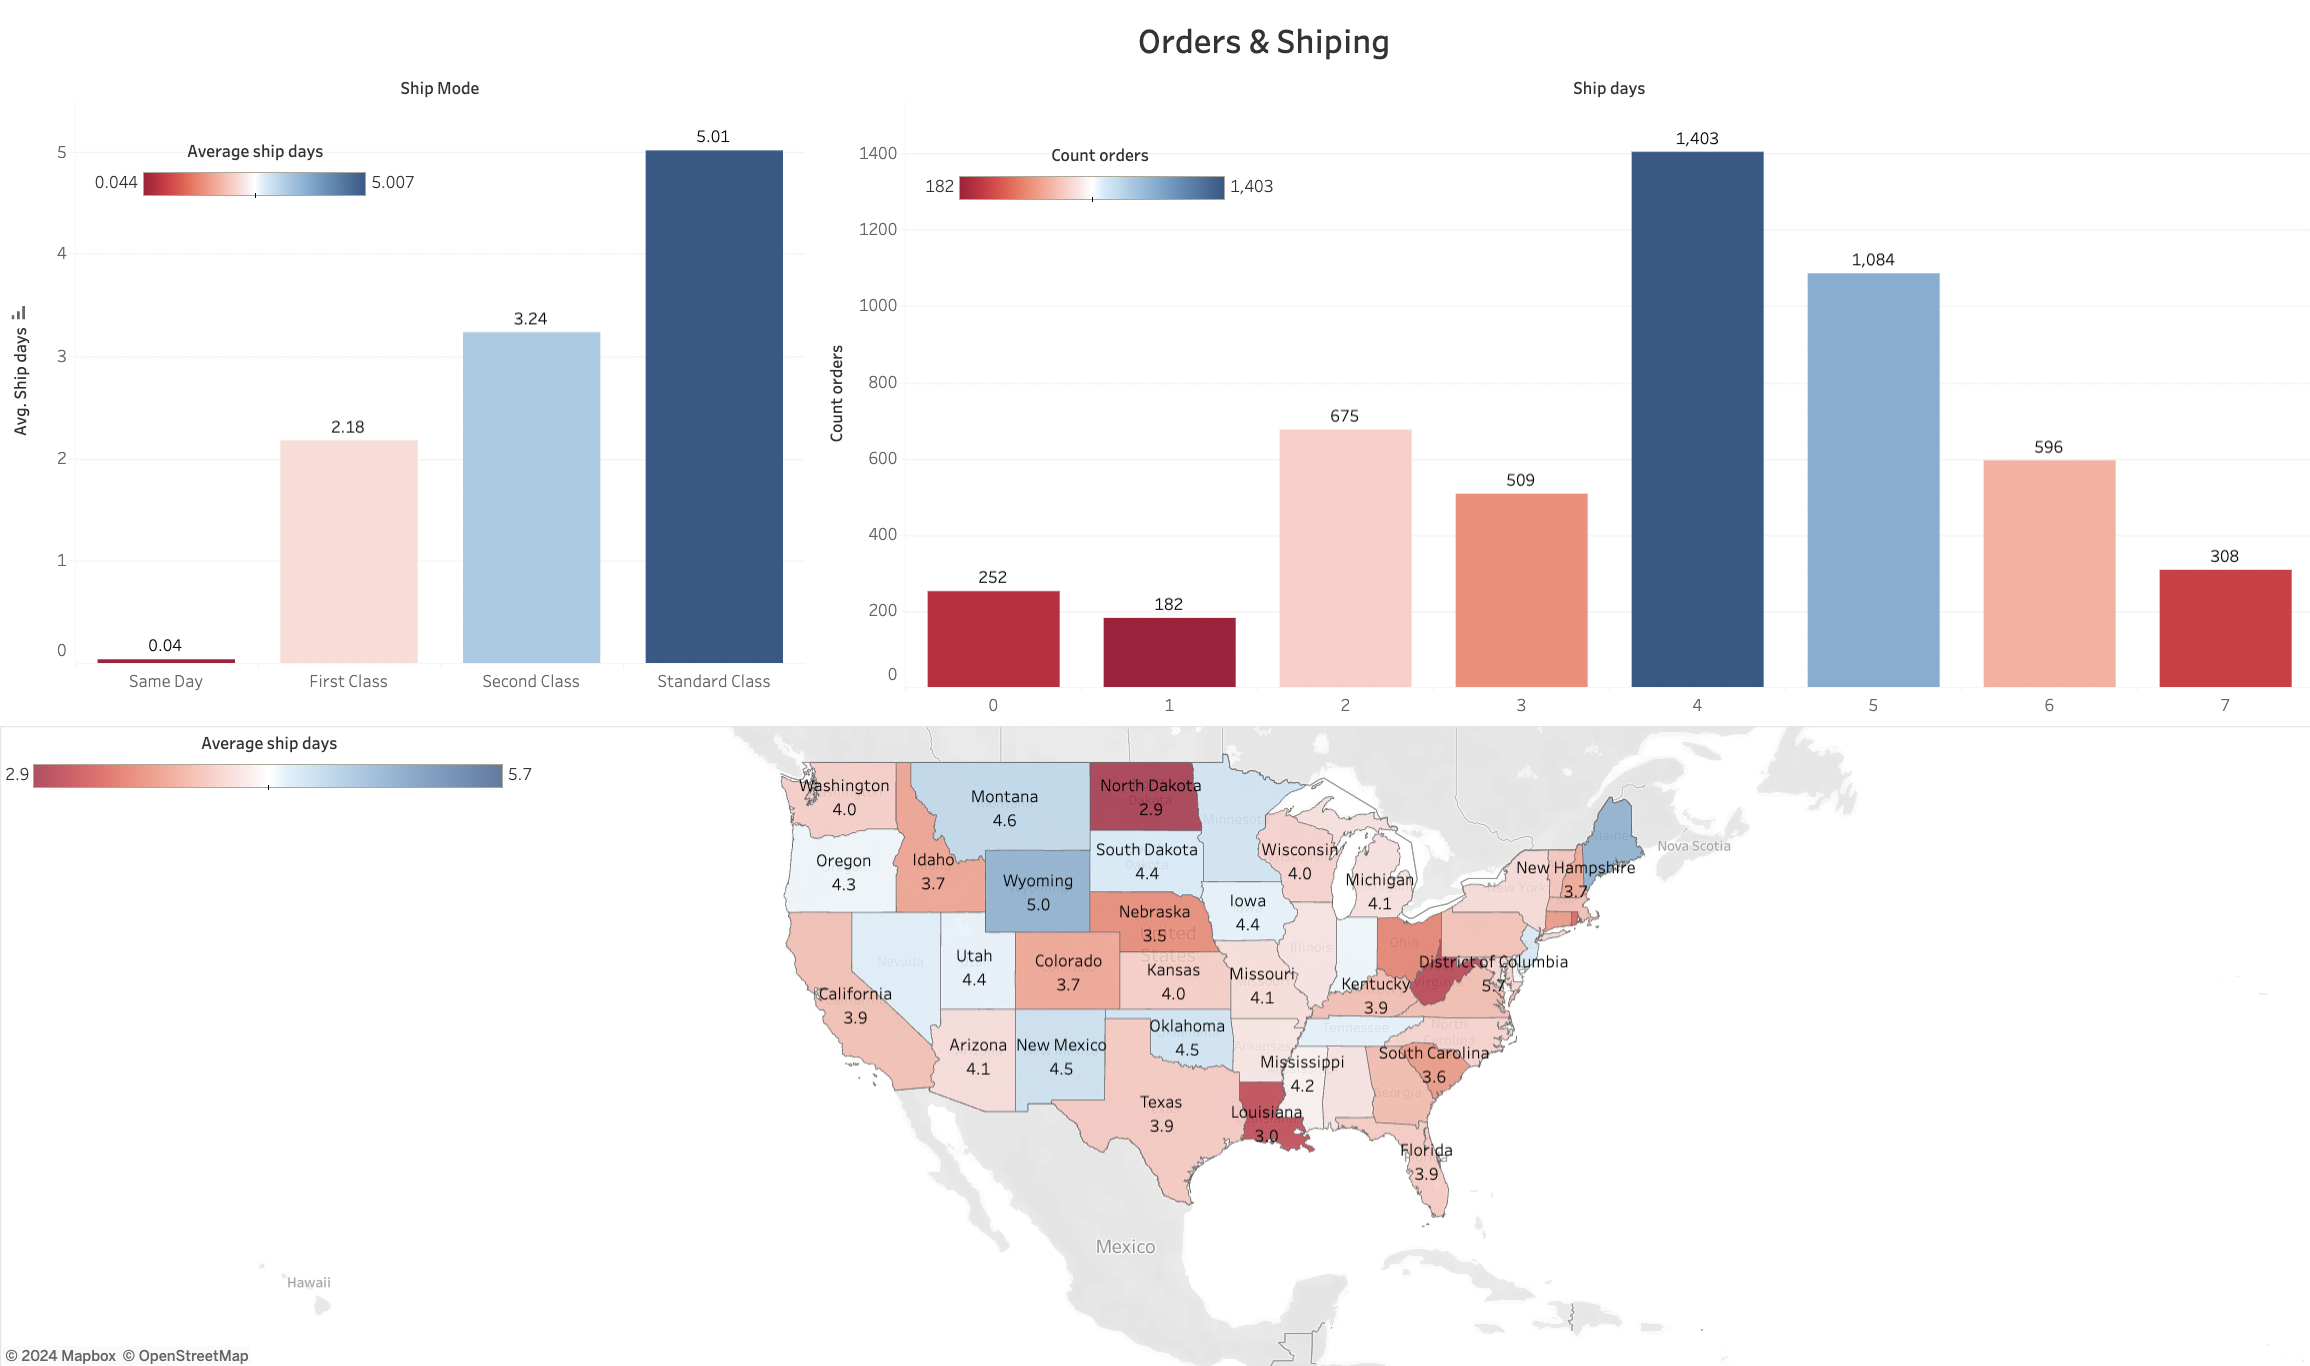

This screenshot's page, from the dashboard's own definition file:
{"tool":"tableau","page":{"name":"Orders & Shiping","canvas":[1000,1000],"units":"permille","ordinal":0},"visuals":[{"type":"title","box":[4.2,8,991.6,49]},{"type":"worksheet","title":"Ship days for mode","mark":"Automatic","rows":["Calculation_313563181313368064"],"cols":["Ship Mode"],"box":[4.2,57,318.2,467.4]},{"type":"worksheet","title":"Count orders","mark":"Automatic","rows":["Calculation_313563181316845570"],"cols":["Calculation_313563181313368064"],"box":[322.4,57,588.7,467.4]},{"type":"filter","title":"Delivery days for state","param":"[federated.1vpc5fr11sjn0t1fpembh0b6aqs7].[none:Order Date:qk]","box":[911.1,57,84.7,73]},{"type":"legend","title":"Ship days for mode","param":"[federated.1vpc5fr11sjn0t1fpembh0b6aqs7].[avg:Calculation_313563181313368064:qk]","box":[41.1,99,130,57]},{"type":"legend","title":"Count orders","param":"[federated.1vpc5fr11sjn0t1fpembh0b6aqs7].[usr:Calculation_313563181316845570:qk]","box":[365.8,102,140.5,67]},{"type":"filter","title":"Delivery days for state","param":"[federated.1vpc5fr11sjn0t1fpembh0b6aqs7].[none:Segment:nk]","box":[911.1,130,84.7,128]},{"type":"filter","title":"Ship days for mode","param":"[federated.1vpc5fr11sjn0t1fpembh0b6aqs7].[none:Ship Mode:nk]","box":[911.1,258,84.7,151]},{"type":"worksheet","title":"Delivery days for state","mark":"Multipolygon","box":[4.2,524.4,906.8,467.6]},{"type":"legend","title":"Delivery days for state","param":"[federated.1vpc5fr11sjn0t1fpembh0b6aqs7].[avg:Calculation_313563181313368064:qk]","box":[6.3,528,210.5,57]}]}

Visuals, with their boxes on the dashboard's canvas, which has no fixed pixel size, in thousandths of its width and height (x1, y1, x2, y2). These are canvas units, not pixel positions in the 2310x1366 screenshot, which may show the page scaled, cropped or inside an application window:
title: 4:8:996:57
"Ship days for mode" worksheet: 4:57:322:524
"Count orders" worksheet: 322:57:911:524
"Delivery days for state" filter: 911:57:996:130
"Ship days for mode" legend: 41:99:171:156
"Count orders" legend: 366:102:506:169
"Delivery days for state" filter: 911:130:996:258
"Ship days for mode" filter: 911:258:996:409
"Delivery days for state" worksheet (Multipolygon marks): 4:524:911:992
"Delivery days for state" legend: 6:528:217:585
